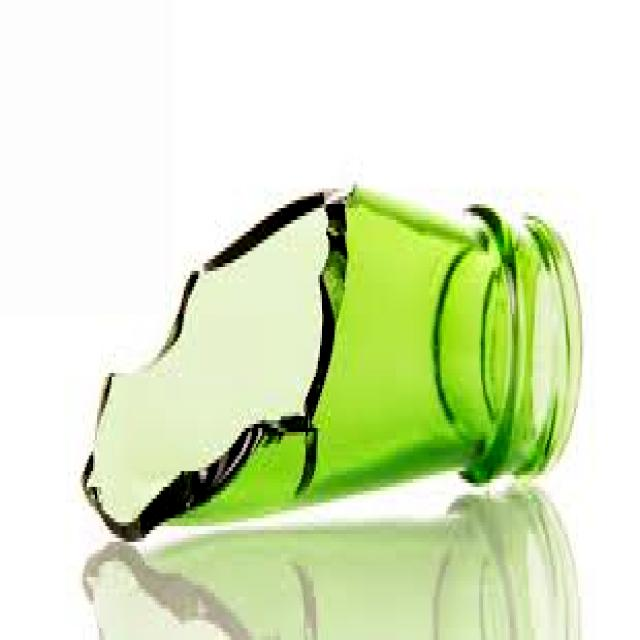Glass: (73, 171, 588, 550)
